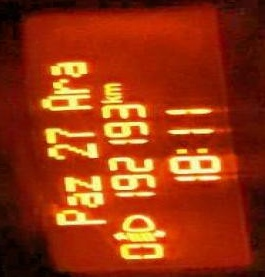0: (114, 241, 165, 260)
1: (162, 124, 218, 135), (169, 172, 226, 181), (161, 105, 216, 114), (102, 136, 152, 144), (111, 190, 158, 198)
2: (44, 141, 97, 160), (102, 155, 154, 171)
3: (97, 103, 148, 118)
7: (41, 126, 94, 142)
8: (165, 155, 222, 173)
9: (107, 173, 157, 188), (100, 121, 147, 136)
X: (34, 93, 91, 111), (58, 172, 104, 191), (51, 210, 105, 226), (48, 78, 90, 94), (47, 60, 87, 76), (62, 191, 104, 206), (168, 145, 212, 153), (101, 82, 121, 95), (98, 94, 122, 103)
